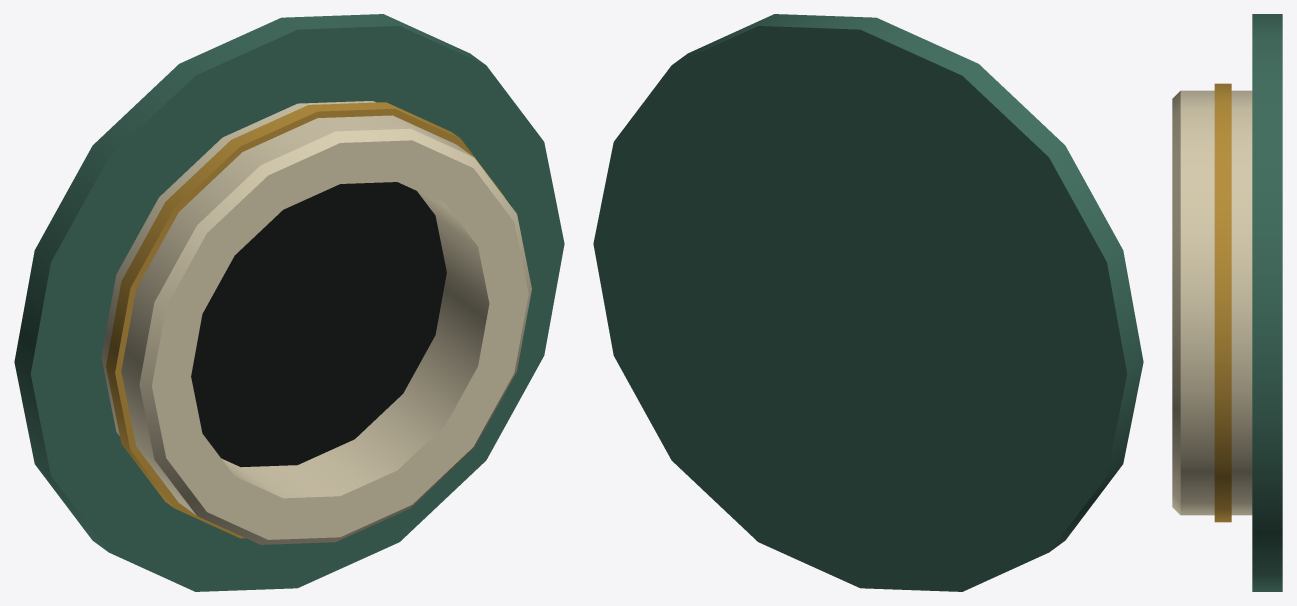
Rendered from cargo4800_coupler_aft.obj.
3 views of the same model, side by side, from view 1: azimuth 30°, elevation 25°; view 2: azimuth 150°, elevation 25°; view 3: azimuth 270°, elevation 25° (orthographic). The views are drawn at different scales.
Visible parts, largest first — view 1: cargo4800_coupler_aft; view 2: cargo4800_coupler_aft; view 3: cargo4800_coupler_aft.
Boxes of the visible parts, left/top/right/bottom form: cargo4800_coupler_aft: left=14, top=14, right=564, bottom=591; cargo4800_coupler_aft: left=593, top=14, right=1143, bottom=591; cargo4800_coupler_aft: left=1172, top=14, right=1282, bottom=591.
Size of the model in its own units: 3.4 by 3.4 by 0.65.
